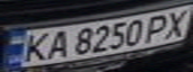0: (121, 17, 151, 46)
2: (90, 21, 115, 53)
5: (109, 19, 130, 51)
8: (72, 25, 96, 56)
A: (42, 28, 72, 60)
K: (18, 30, 54, 64)
P: (139, 12, 175, 43)
X: (157, 7, 193, 39)
